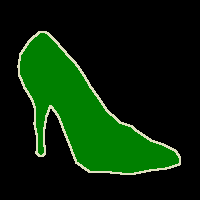shoe: (18, 31, 180, 174)
